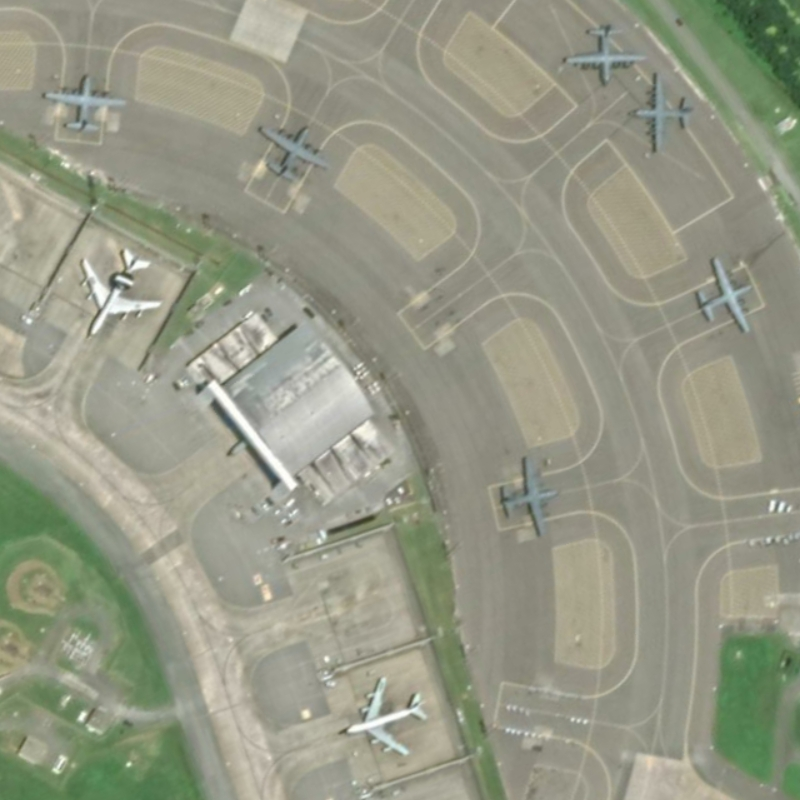A11: (334, 670, 431, 762)
A2: (38, 63, 134, 142), (687, 245, 760, 341), (624, 68, 699, 158), (254, 111, 337, 188), (557, 20, 649, 89), (495, 450, 561, 541)
A7: (76, 239, 170, 344)
